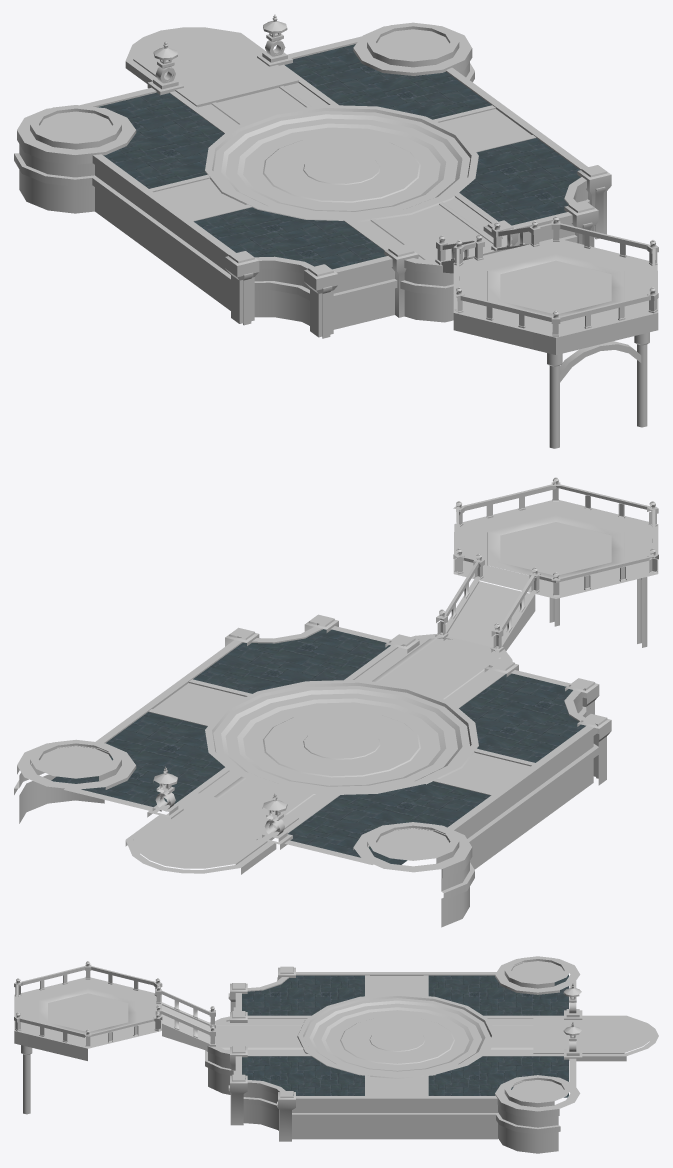
3 views of the same model, one above another, from view 1: azimuth 30°, elevation 25°; view 2: azimuth 150°, elevation 25°; view 3: azimuth 270°, elevation 25° (orthographic). The views are drawn at different scales.
Parts seen in each view (by area): view 1: MB0002_03; view 2: MB0002_03; view 3: MB0002_03.
Part boxes in pixels (x1,y1,x2,y2): MB0002_03: (14, 14, 658, 448); MB0002_03: (14, 477, 658, 927); MB0002_03: (14, 956, 658, 1153).
Size of the model in its own units: 31.17 by 9.46 by 54.14.
